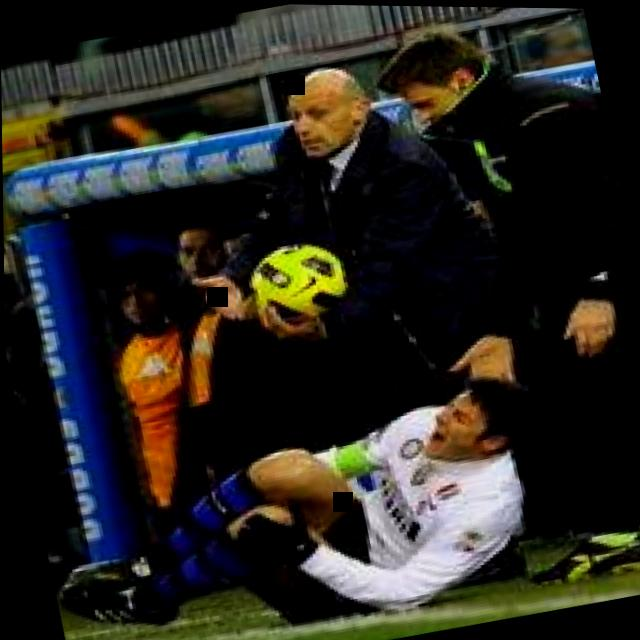Fall-Detected: (46, 330, 578, 640)
